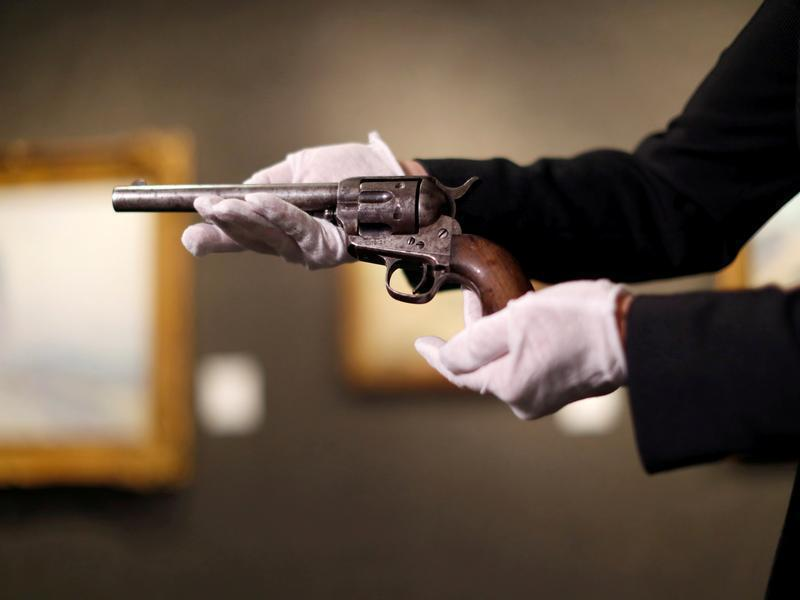GUN: (104, 174, 540, 322)
